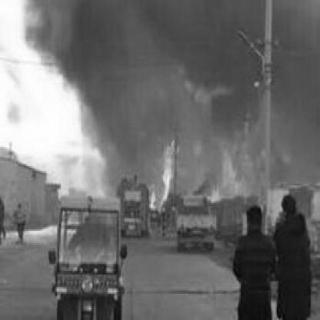Fire: (130, 122, 269, 210)
